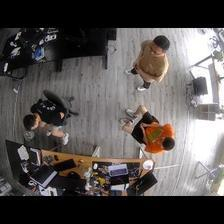normal: (120, 105, 179, 159), (22, 87, 73, 144), (127, 33, 171, 93)
